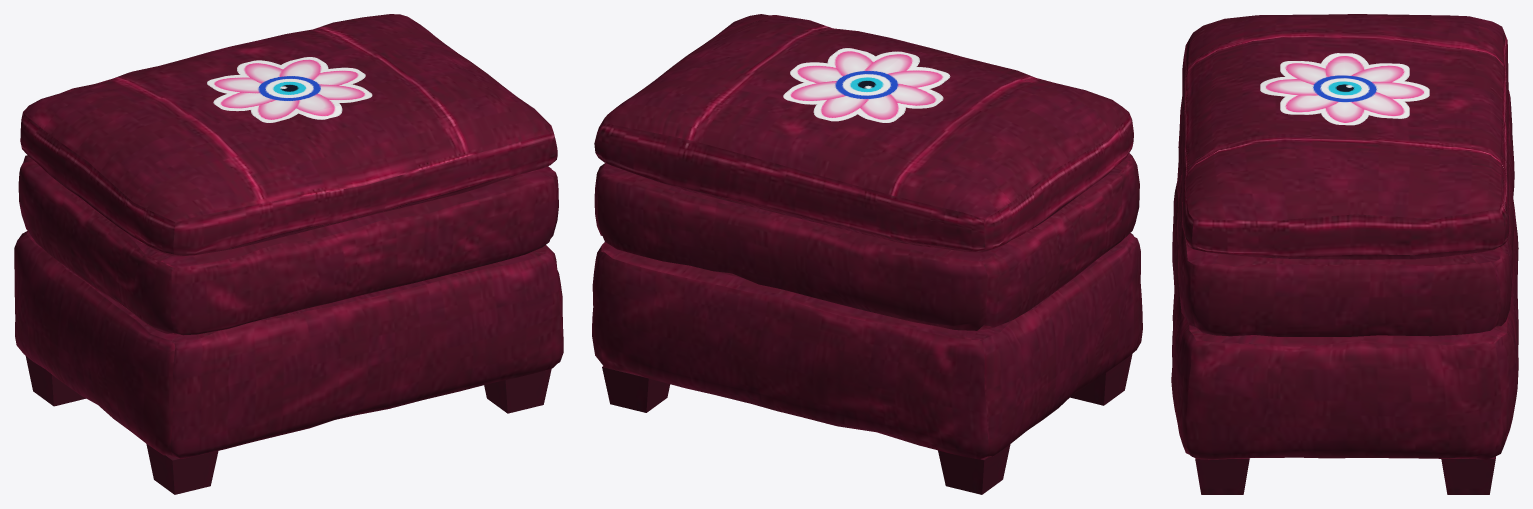
The model's file is nyb_lobby_ottoman.glb.
3 renders of one model, left to right at view 1: azimuth 30°, elevation 25°; view 2: azimuth 150°, elevation 25°; view 3: azimuth 270°, elevation 25°, orthographic.
Parts seen in each view (by area): view 1: Ottoman_01, stk_eyeflower_die.png; view 2: Ottoman_01, stk_eyeflower_die.png; view 3: Ottoman_01, stk_eyeflower_die.png.
Part boxes in pixels (x1,y1,x2,y2): Ottoman_01: (14, 14, 563, 494); stk_eyeflower_die.png: (207, 57, 372, 122); Ottoman_01: (592, 14, 1142, 494); stk_eyeflower_die.png: (783, 48, 950, 122); Ottoman_01: (1171, 14, 1518, 494); stk_eyeflower_die.png: (1260, 53, 1429, 125).
Size of the model in its own units: 0.8846 by 0.6264 by 0.6211.
Materials: 2 (2 with a texture image).
